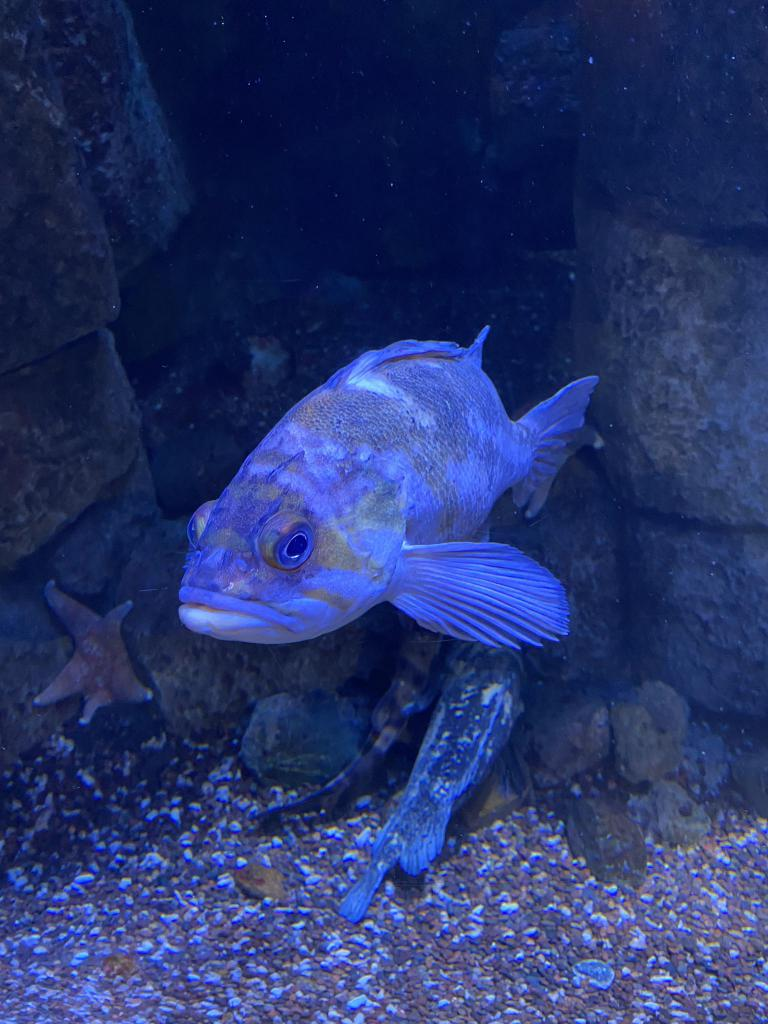fish: (175, 322, 596, 650), (328, 632, 528, 918)
shark: (248, 610, 456, 832)
starfish: (36, 580, 152, 724)
